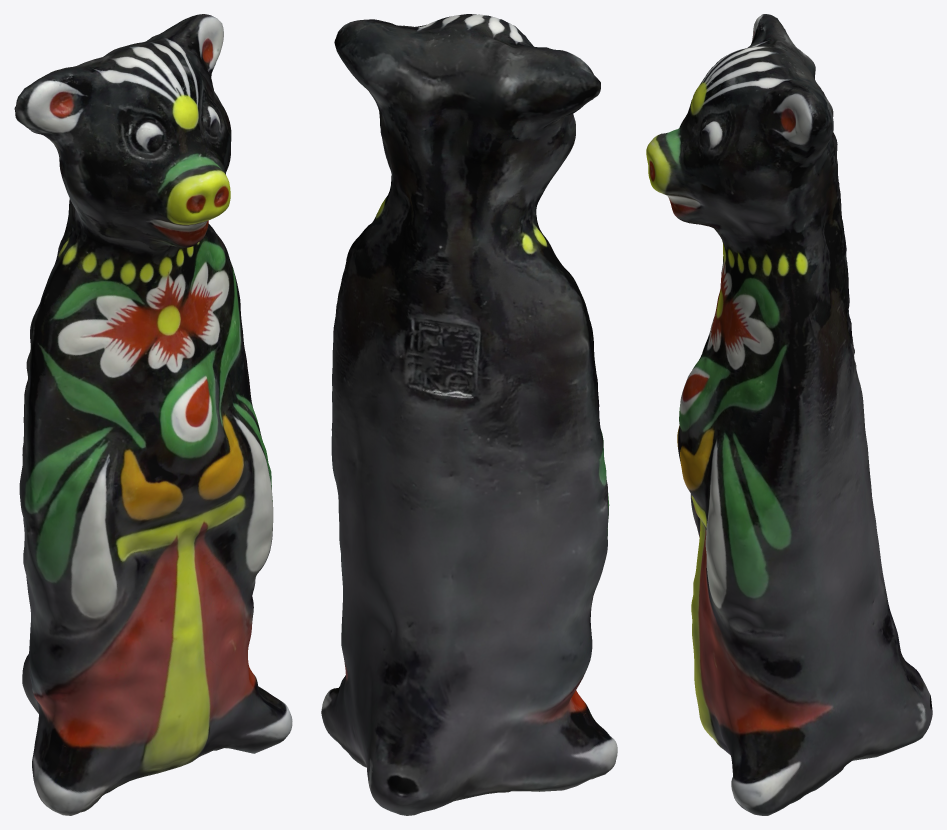
3 views of the same model, side by side, from view 1: azimuth 30°, elevation 25°; view 2: azimuth 150°, elevation 25°; view 3: azimuth 270°, elevation 25° (orthographic). The views are drawn at different scales.
Bounding box in the file's own units: 0.3825 × 0.9797 × 0.3611.
Materials: 1 (1 with a texture image).
